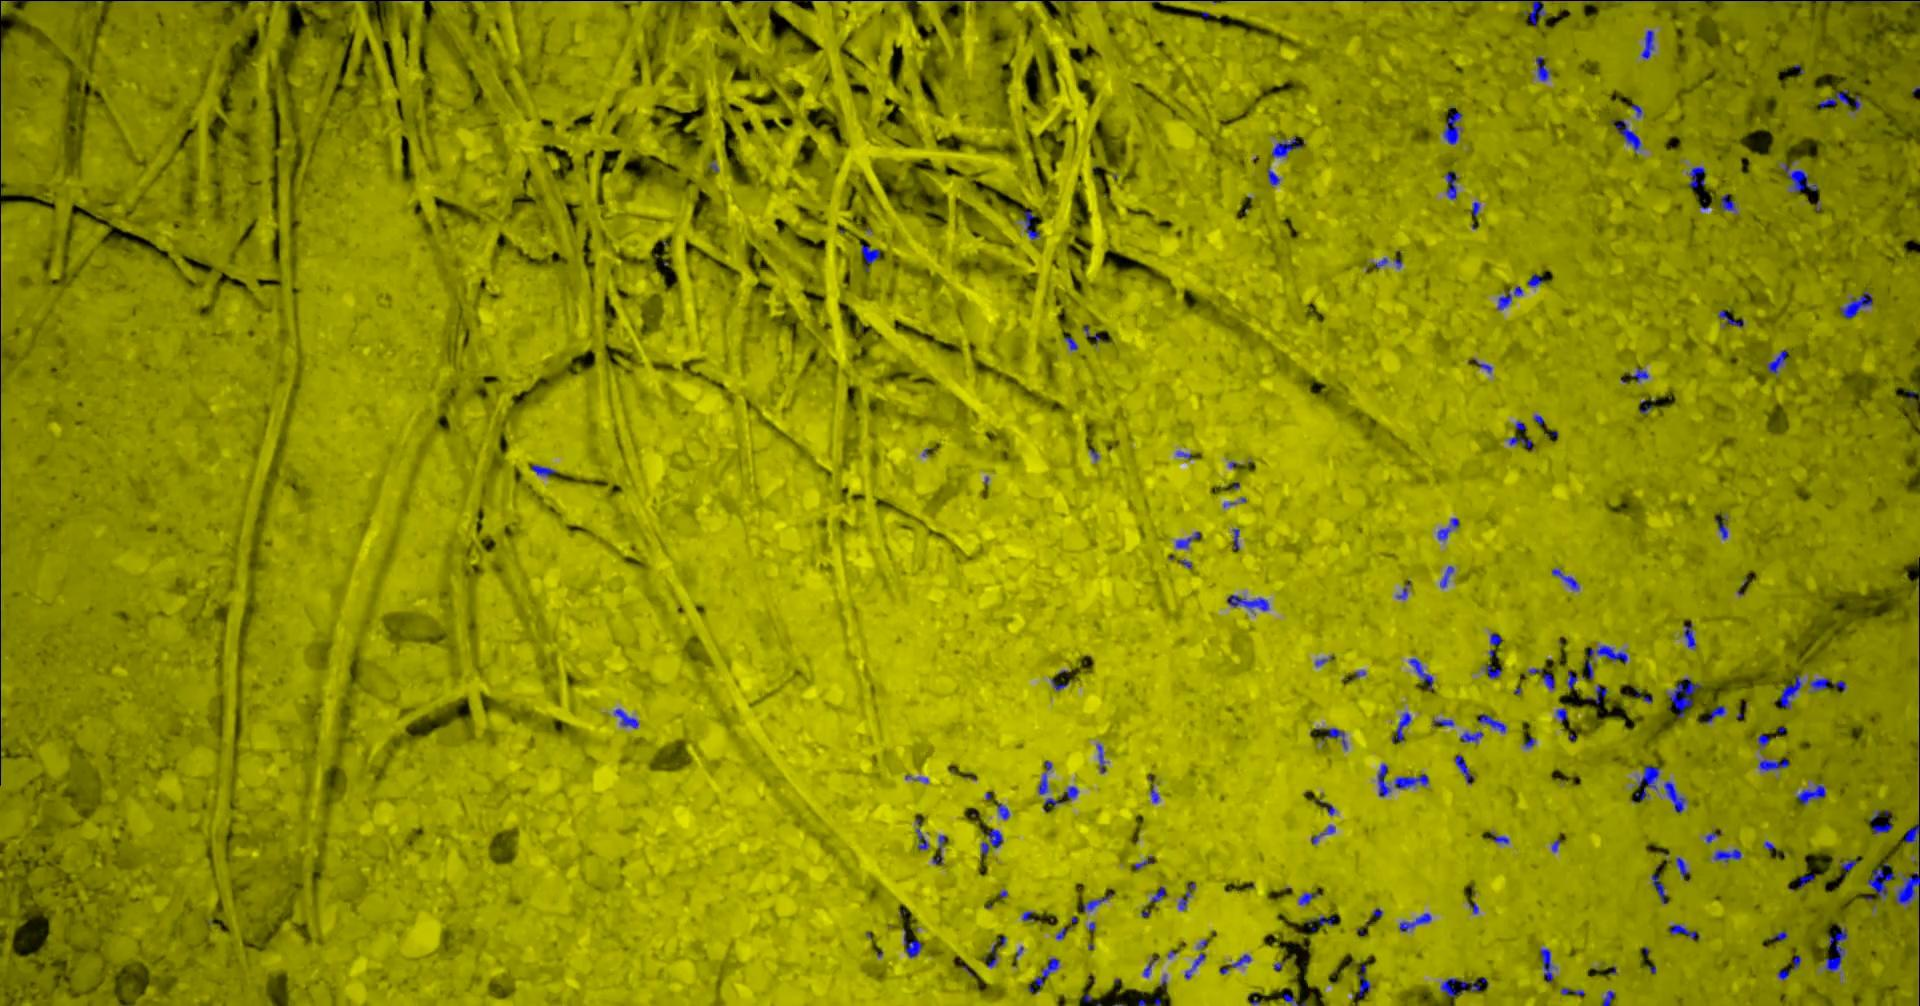ant: (1583, 645, 1627, 680), (1669, 677, 1702, 716), (1027, 956, 1059, 992), (1823, 927, 1848, 970), (1783, 163, 1817, 191), (1440, 977, 1487, 997), (1183, 939, 1208, 978), (1839, 290, 1872, 318), (1818, 89, 1860, 111), (1867, 866, 1895, 898), (1615, 119, 1641, 154), (1636, 765, 1658, 800), (1895, 873, 1919, 906), (1408, 658, 1432, 688), (1779, 674, 1801, 708), (1227, 594, 1269, 611), (1796, 782, 1825, 805), (1271, 136, 1302, 158), (1663, 781, 1685, 812), (1443, 111, 1462, 144), (1399, 912, 1431, 931), (1550, 568, 1578, 589), (1497, 286, 1523, 309), (1808, 677, 1845, 692), (1390, 711, 1410, 741), (1523, 0, 1545, 24), (980, 828, 1002, 854), (987, 936, 1004, 967), (1478, 713, 1506, 732), (1454, 754, 1473, 782), (1081, 893, 1112, 909), (1324, 727, 1347, 749), (1539, 948, 1554, 982), (1765, 349, 1787, 373), (860, 244, 879, 271), (903, 929, 921, 956), (1437, 517, 1459, 540), (1903, 818, 1919, 850), (1667, 923, 1699, 939), (1394, 774, 1429, 788), (615, 708, 637, 728), (1377, 763, 1390, 796), (1178, 882, 1195, 909), (1310, 824, 1335, 843), (1023, 210, 1039, 239), (1356, 964, 1370, 996), (1718, 310, 1743, 326), (1175, 531, 1200, 547), (1586, 683, 1608, 702), (1703, 704, 1724, 723), (1712, 848, 1741, 862), (1651, 874, 1665, 903), (1757, 757, 1788, 770), (916, 818, 928, 848), (1686, 166, 1704, 188), (932, 835, 945, 864), (1535, 56, 1550, 80), (1641, 30, 1653, 58), (1683, 621, 1695, 648), (1714, 513, 1727, 539), (1445, 171, 1457, 199), (1840, 857, 1858, 875), (1509, 436, 1533, 448), (531, 464, 555, 476), (1488, 633, 1501, 657), (1439, 565, 1453, 587), (1675, 856, 1689, 878), (1305, 915, 1335, 925), (1483, 662, 1501, 678), (1459, 730, 1483, 742), (1298, 892, 1319, 904), (1719, 194, 1736, 211), (1634, 687, 1652, 702), (1096, 743, 1105, 774), (1283, 993, 1305, 1005), (1630, 367, 1648, 381), (996, 801, 1010, 819), (1230, 954, 1250, 967), (1798, 874, 1815, 888), (1266, 166, 1279, 184), (1037, 772, 1048, 794), (1062, 786, 1078, 799), (1872, 823, 1892, 833), (1150, 887, 1164, 901), (1528, 273, 1543, 286), (1566, 669, 1576, 688), (1559, 987, 1583, 995), (1543, 673, 1554, 688), (1556, 708, 1567, 723), (1757, 734, 1769, 749), (1603, 989, 1614, 1005), (1432, 719, 1454, 727), (1771, 931, 1787, 941), (1806, 0, 1901, 1)
